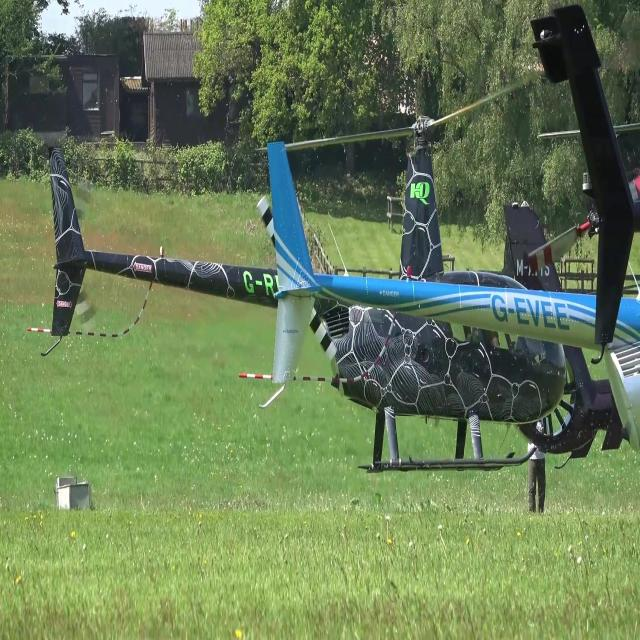CIV_HELO: (48, 117, 569, 478)
